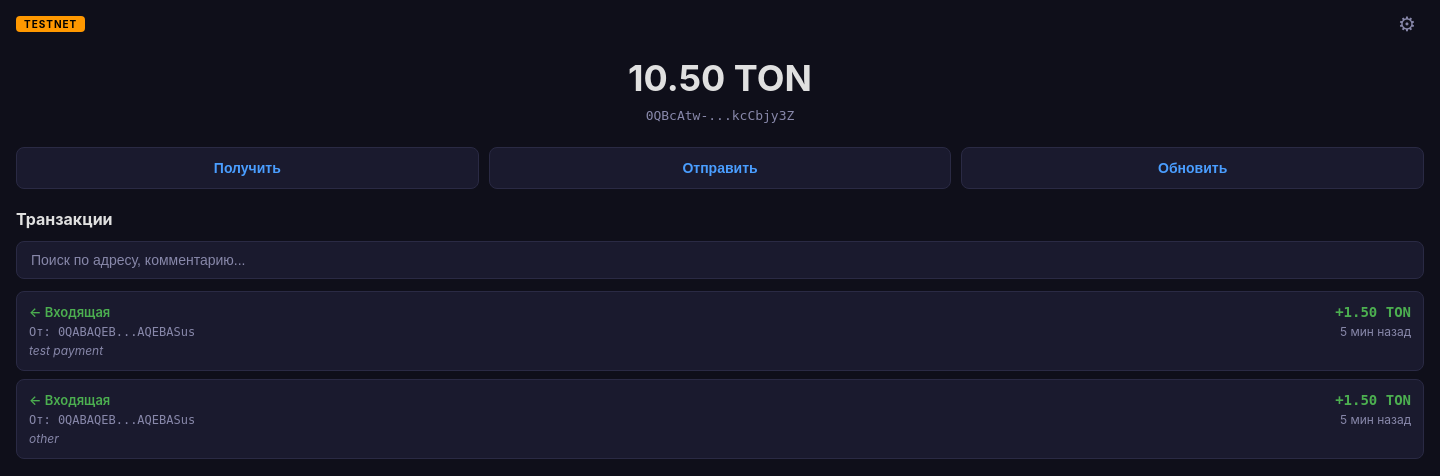
Dashboard › filters transactions by search
The width and height of the screenshot is (1440, 476).
Step 1. Type "test payment" into the field with placeholder "Поиск по адресу, комментарию..." → (720, 260), box [16,241,1424,279]
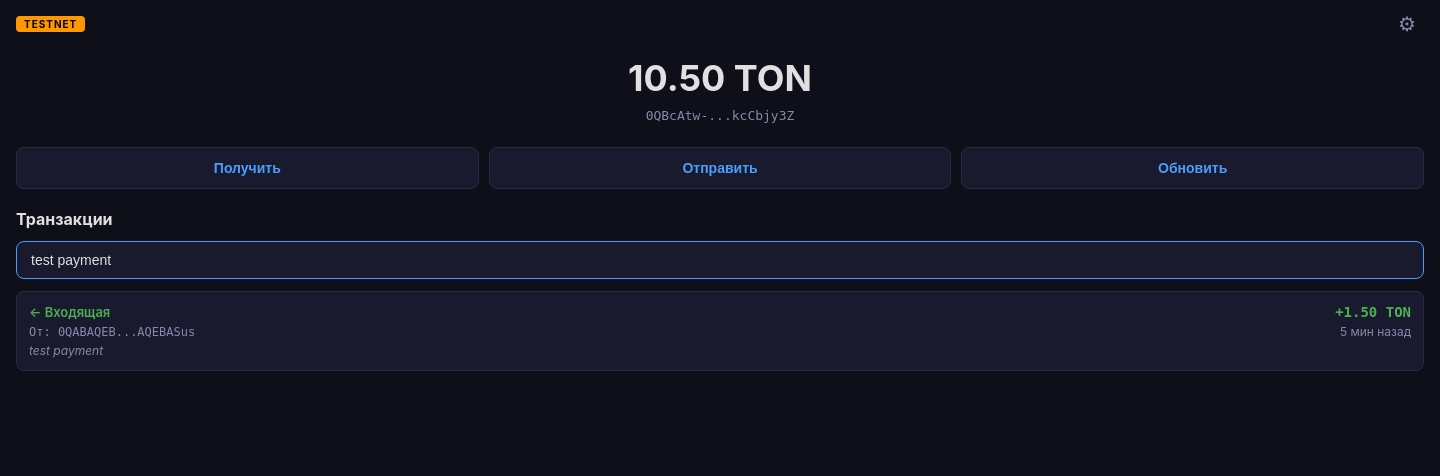
Expected: the text "test payment" is shown, [29,343,103,358]
Expected: the text "other" is gone
